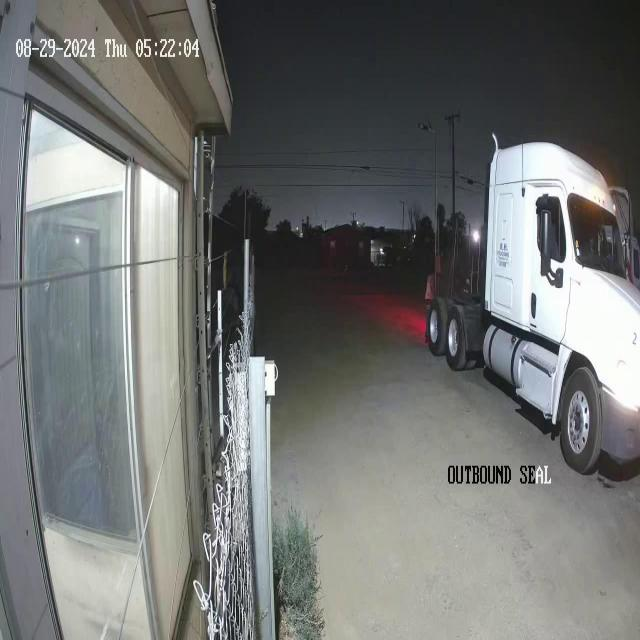BOBTAIL: (425, 131, 639, 476)
